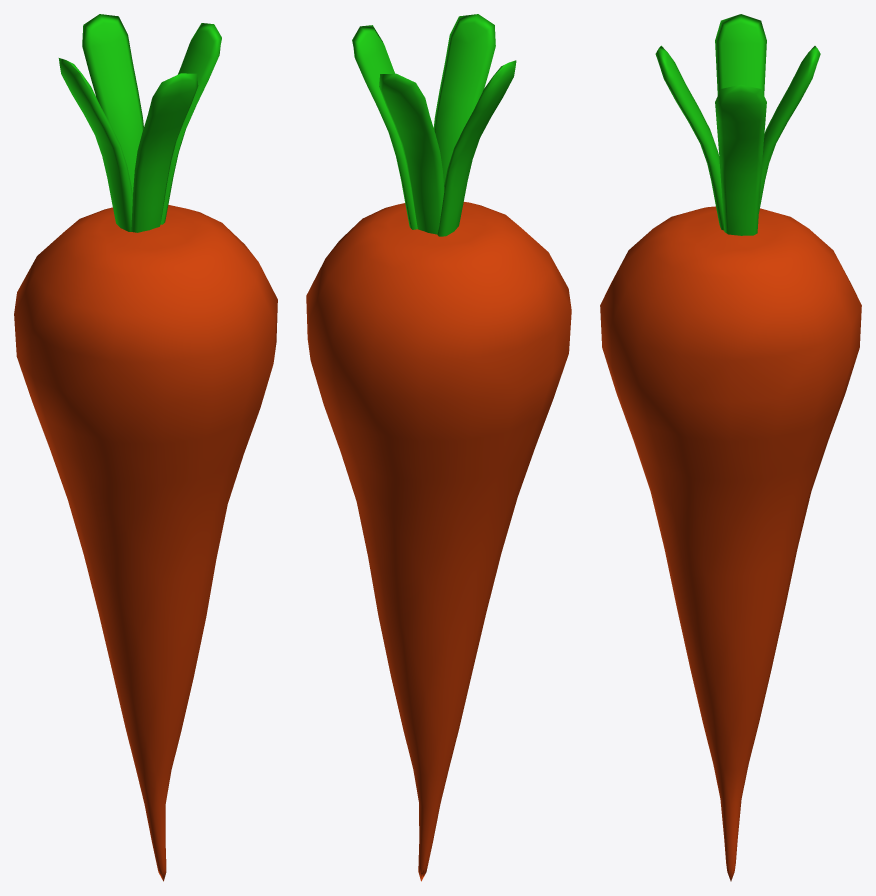
File: Carrot.obj
The picture shows the model from 3 angles, left to right: view 1: azimuth 30°, elevation 25°; view 2: azimuth 150°, elevation 25°; view 3: azimuth 270°, elevation 25°; orthographic projection. The views are drawn at different scales.
Visible parts, largest first — view 1: Cube.003; view 2: Cube.003; view 3: Cube.003.
Part boxes in pixels (box(x1,y1,x2,y2)): Cube.003: box(14, 14, 277, 881); Cube.003: box(306, 14, 571, 881); Cube.003: box(600, 14, 861, 881).
Bounding box in the file's own units: 3.61 × 12.55 × 3.61.
